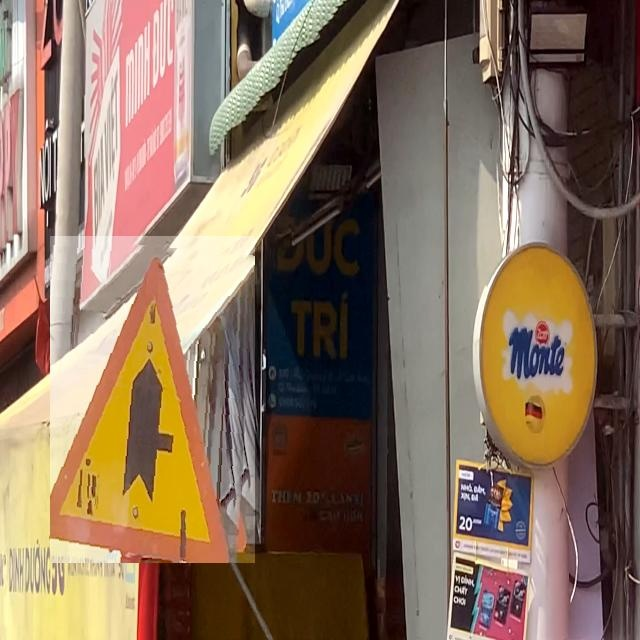bien_nguy_hiem: (50, 236, 255, 563)
